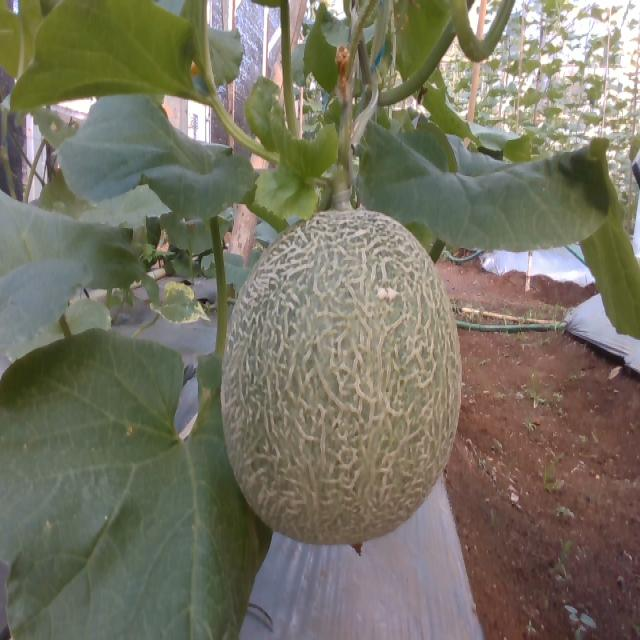melon: (222, 209, 463, 545)
